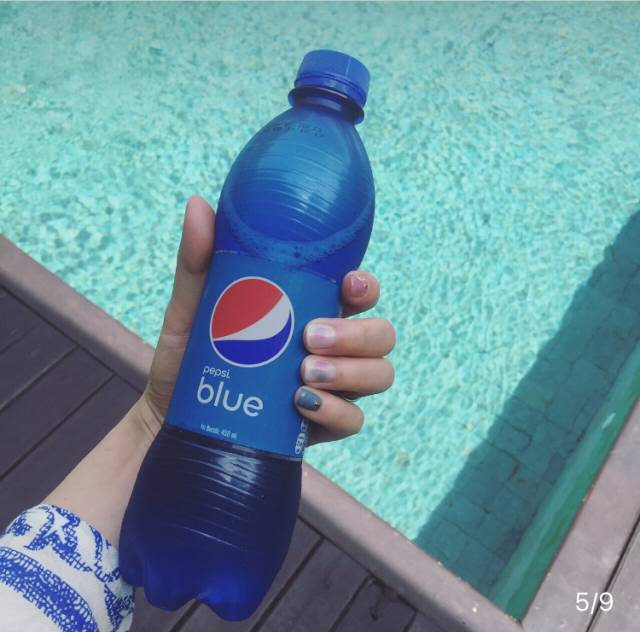no-phone: (145, 54, 403, 490)
